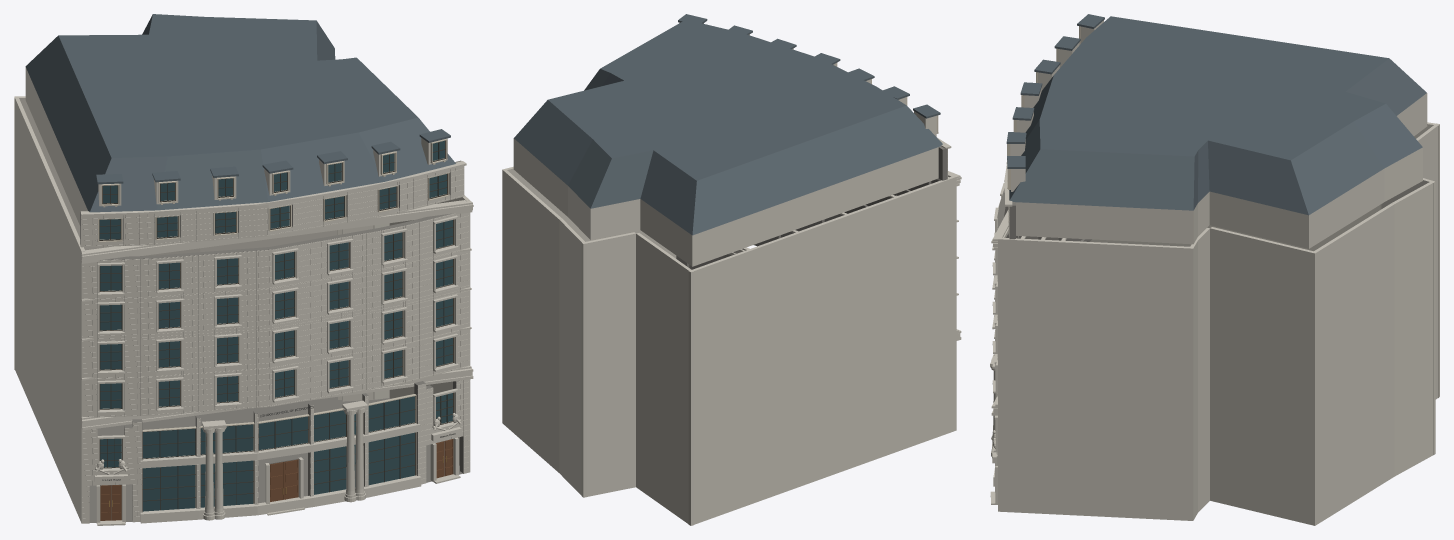
The model's file is clm-exterior-3de6b534942a.glb.
3 renders of one model, left to right at view 1: azimuth 30°, elevation 25°; view 2: azimuth 150°, elevation 25°; view 3: azimuth 270°, elevation 25°, orthographic. The views are drawn at different scales.
Visible parts, largest first — view 1: CLM.001; view 2: CLM.001; view 3: CLM.001.
Part boxes in pixels (x1,y1,x2,y2): CLM.001: (14,14,473,525); CLM.001: (502,14,961,525); CLM.001: (990,14,1439,525).
Bounding box in the file's own units: 33.04 × 29.19 × 34.19.
